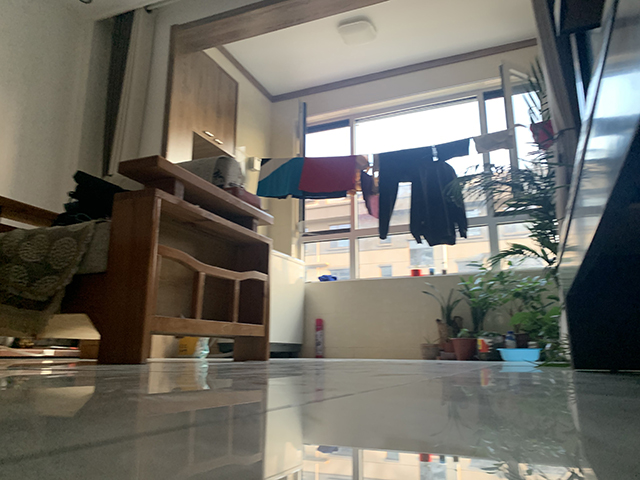sofa: (1, 155, 276, 365)
